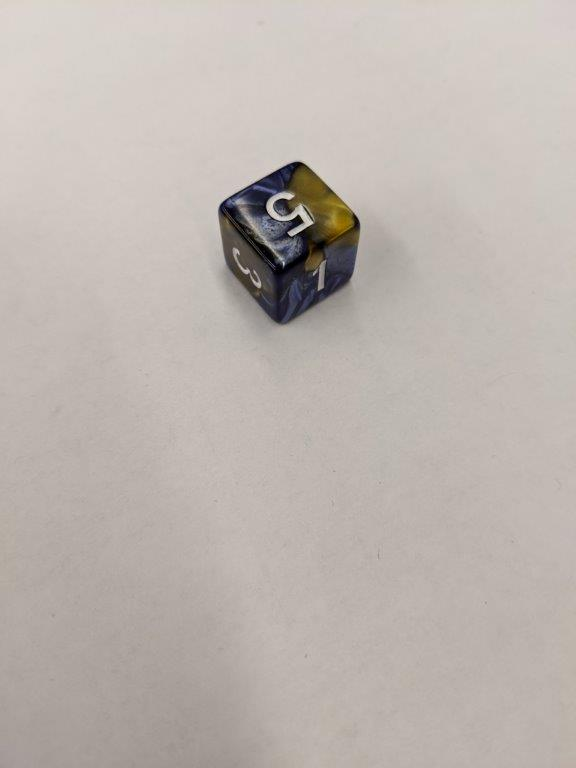d6-5: (217, 160, 361, 326)
